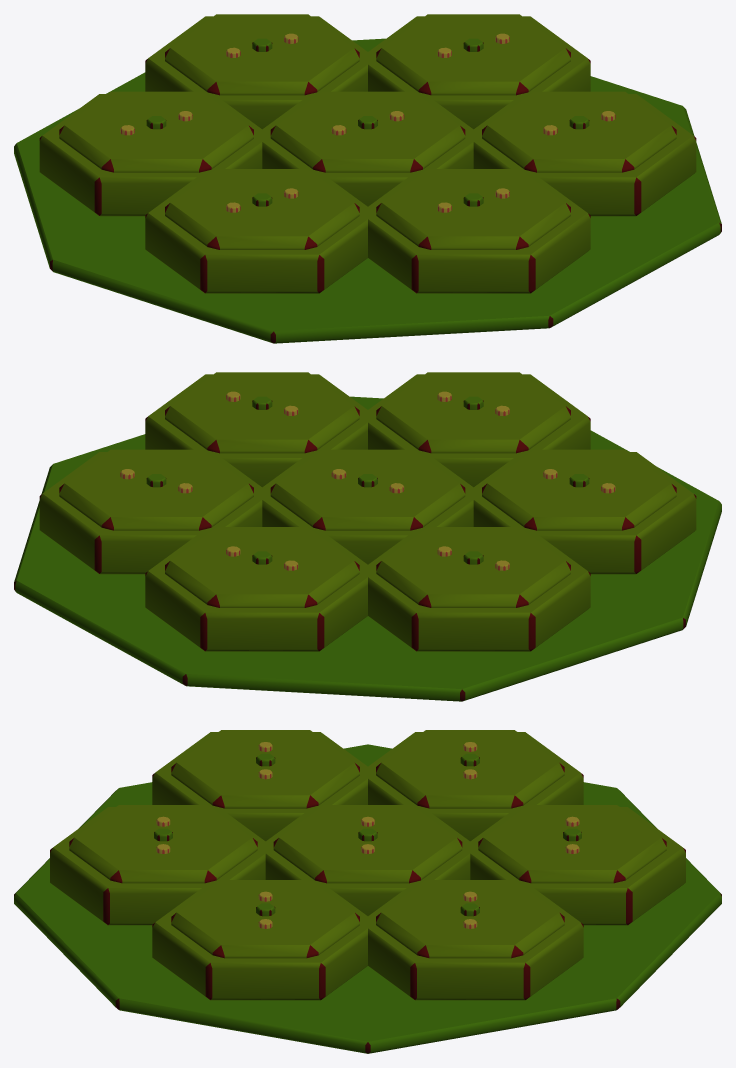
The model's file is RCLModule_assault_walker_plasma_cinder_ablative_era.fbx.
3 renders of one model, top to bottom at view 1: azimuth 30°, elevation 25°; view 2: azimuth 150°, elevation 25°; view 3: azimuth 270°, elevation 25°, orthographic. The views are drawn at different scales.
Visible parts, largest first — view 1: RCLModule_assault_walker_plasma_cinder_ablative_era_Batch_RC (×3); view 2: RCLModule_assault_walker_plasma_cinder_ablative_era_Batch_RC (×3); view 3: RCLModule_assault_walker_plasma_cinder_ablative_era_Batch_RC (×3).
Part boxes in pixels (x1,y1,x2,y2): RCLModule_assault_walker_plasma_cinder_ablative_era_Batch_RC (×3): (14, 14, 721, 343); RCLModule_assault_walker_plasma_cinder_ablative_era_Batch_RC (×3): (14, 372, 721, 701); RCLModule_assault_walker_plasma_cinder_ablative_era_Batch_RC (×3): (14, 730, 721, 1053).
Size of the model in its own units: 47.79 by 5.48 by 47.79.
